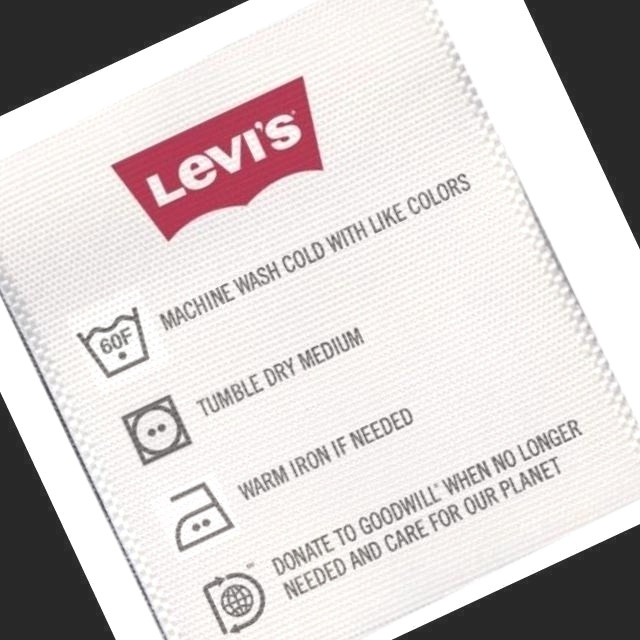30C: (79, 302, 152, 379)
iron_medium: (163, 477, 238, 552)
tumble_dry_medium: (122, 392, 196, 465)
